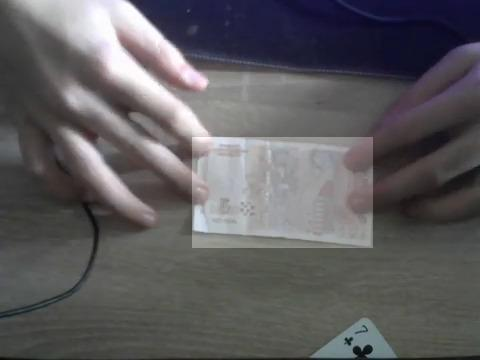5leva: (192, 137, 373, 248)
